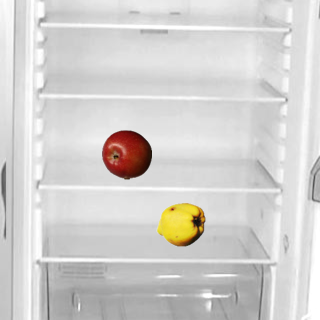Apple Braeburn: (101, 129, 151, 179)
Quince: (155, 199, 205, 249)
